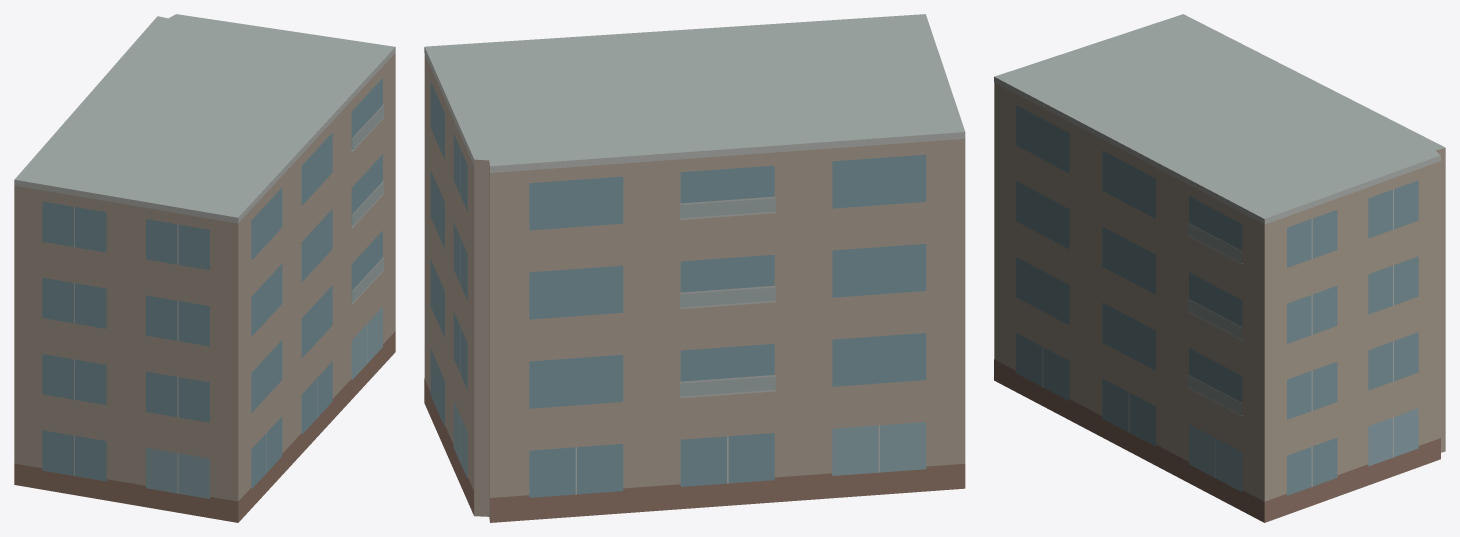
File: survey-upis-32994427.glb
3 views of the same model, side by side, from view 1: azimuth 30°, elevation 25°; view 2: azimuth 150°, elevation 25°; view 3: azimuth 270°, elevation 25° (orthographic). The views are drawn at different scales.
Visible parts, largest first — view 1: survey-upis-32994427.tmp; view 2: survey-upis-32994427.tmp; view 3: survey-upis-32994427.tmp.
Boxes of the visible parts, bbox=[...] form: survey-upis-32994427.tmp: bbox=[14, 14, 395, 522]; survey-upis-32994427.tmp: bbox=[424, 14, 965, 522]; survey-upis-32994427.tmp: bbox=[994, 14, 1445, 522].
Size of the model in its own units: 18.83 by 13 by 17.52.
